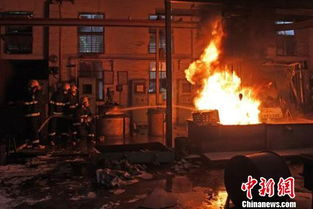fire: (184, 37, 262, 129)
